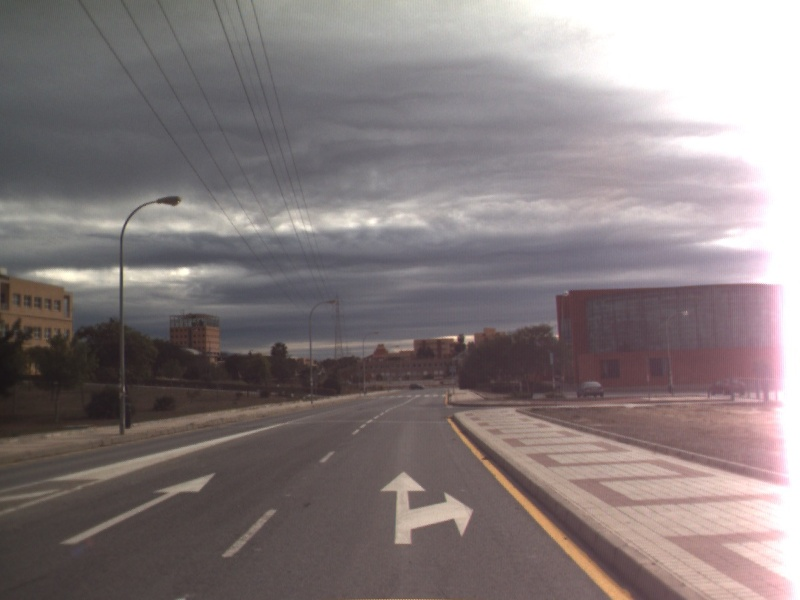STRAIGHT: (56, 471, 218, 547)
STRAIGHT_RIGHT: (378, 469, 476, 546)
